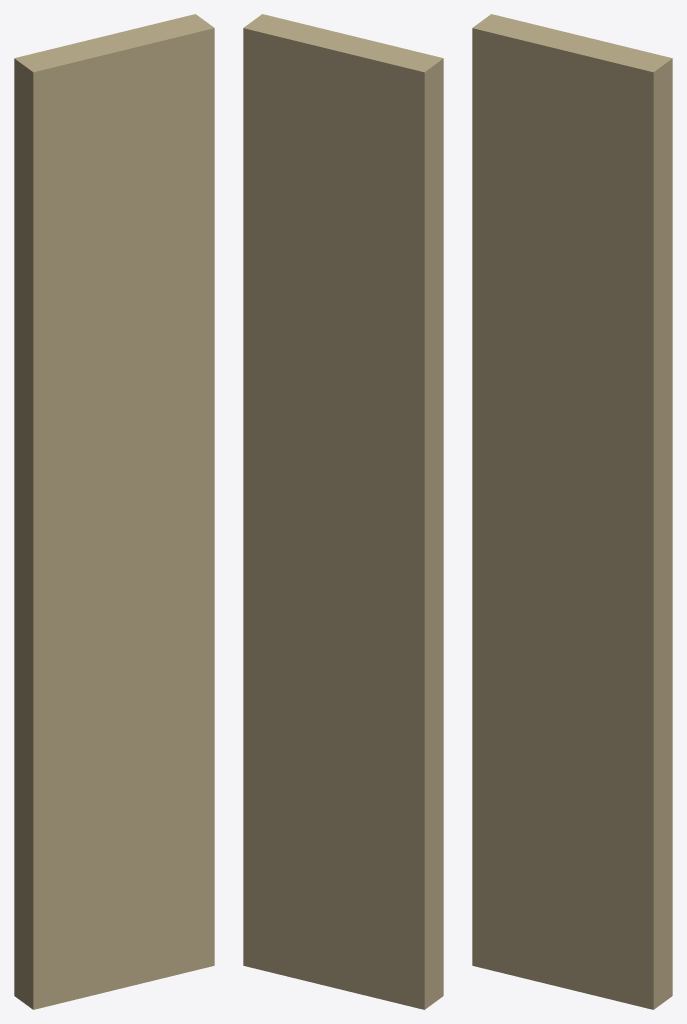
3 renders of one model, left to right at view 1: azimuth 30°, elevation 25°; view 2: azimuth 150°, elevation 25°; view 3: azimuth 330°, elevation 25°, orthographic.
Visible parts, largest first — view 1: GF-W131; view 2: GF-W131; view 3: GF-W131.
Boxes of the visible parts, box(x1,y1,x2,y2) form: GF-W131: box(14, 14, 214, 1009); GF-W131: box(243, 14, 443, 1009); GF-W131: box(472, 14, 672, 1009).
Bounding box in the file's own units: 0.49 × 2.42 × 0.09.
